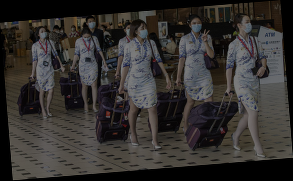with_mask: (137, 25, 149, 40), (242, 18, 253, 34), (191, 20, 203, 33), (39, 29, 48, 40), (88, 19, 96, 30), (126, 26, 132, 37), (82, 36, 92, 42), (60, 28, 65, 34), (70, 26, 76, 31), (167, 38, 172, 43), (55, 29, 59, 33)
